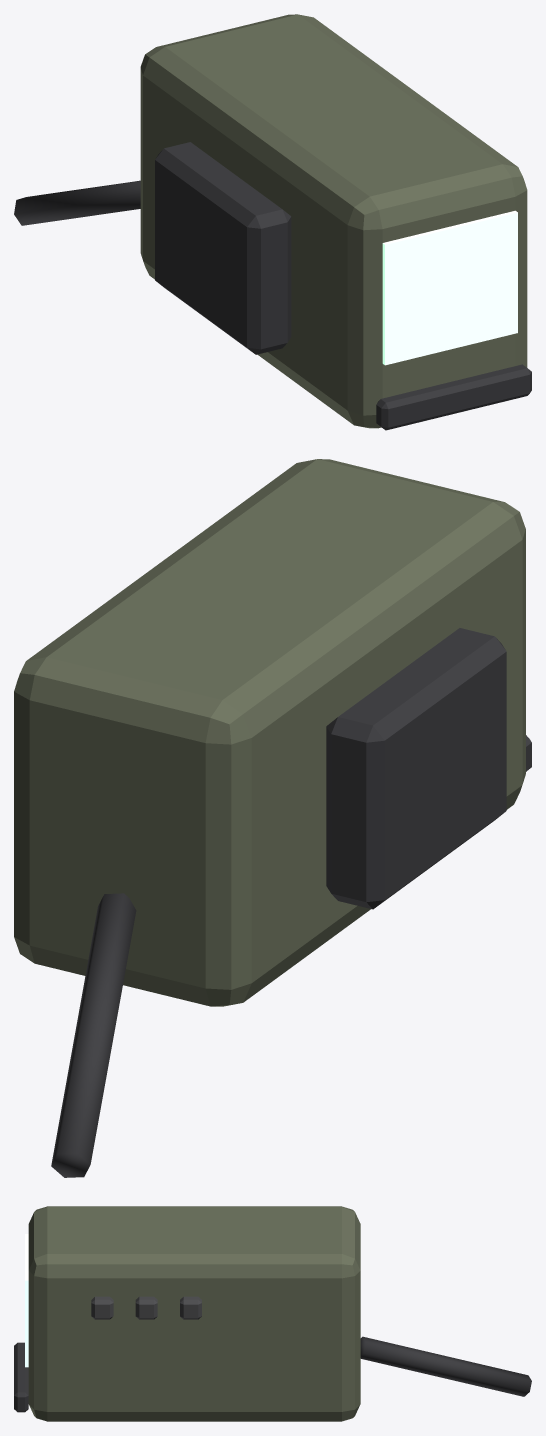
Rendered from part_pocitac.glb.
The picture shows the model from 3 angles, top to bottom: view 1: azimuth 30°, elevation 25°; view 2: azimuth 150°, elevation 25°; view 3: azimuth 270°, elevation 25°; orthographic projection. The views are drawn at different scales.
Parts seen in each view (by area): view 1: Pocitac; view 2: Pocitac; view 3: Pocitac.
Boxes of the visible parts, left/top/right/bottom form: Pocitac: left=14, top=14, right=531, bottom=430; Pocitac: left=14, top=459, right=531, bottom=1177; Pocitac: left=14, top=1206, right=531, bottom=1421.
Bounding box in the file's own units: 0.054 × 0.0576 × 0.1405.
